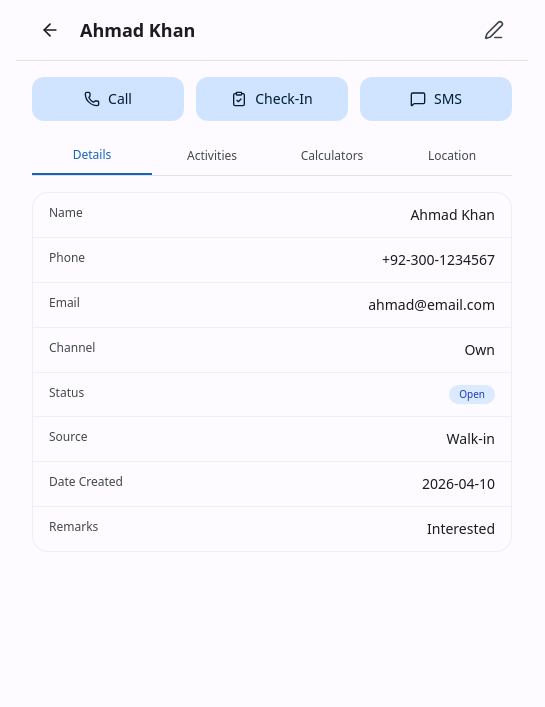
Scenario: LeadDetailContent › enters edit mode when edit button is clicked
Click the button named "Toggle edit": (494, 30) [476,12,512,48]
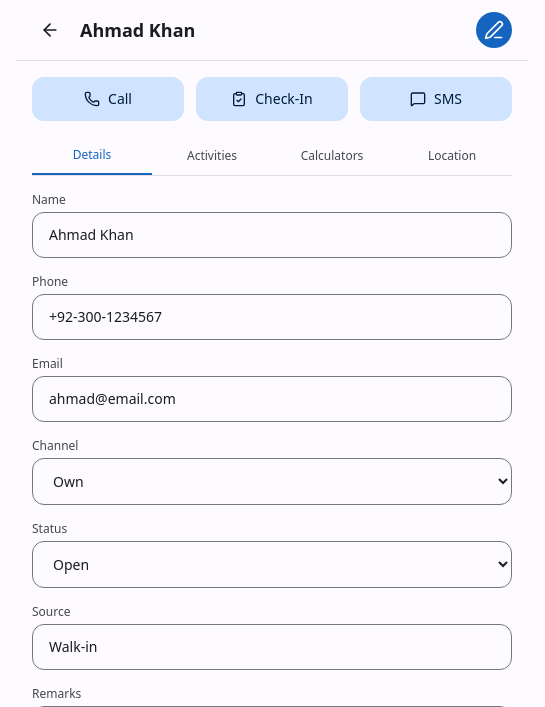
Expected: the field showing "Ahmad Khan" below "Name" is shown, [32,212,512,258]
